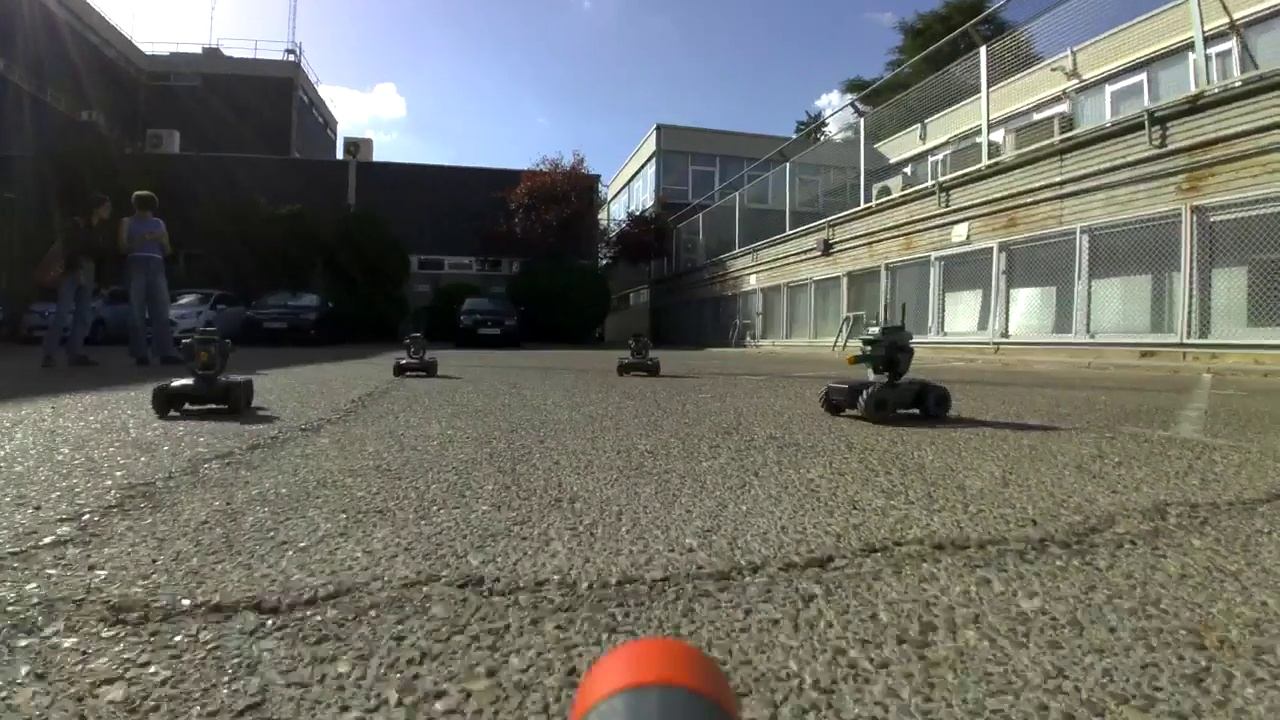robot: (818, 299, 953, 423), (154, 306, 255, 417), (616, 331, 663, 378), (392, 329, 438, 377)
